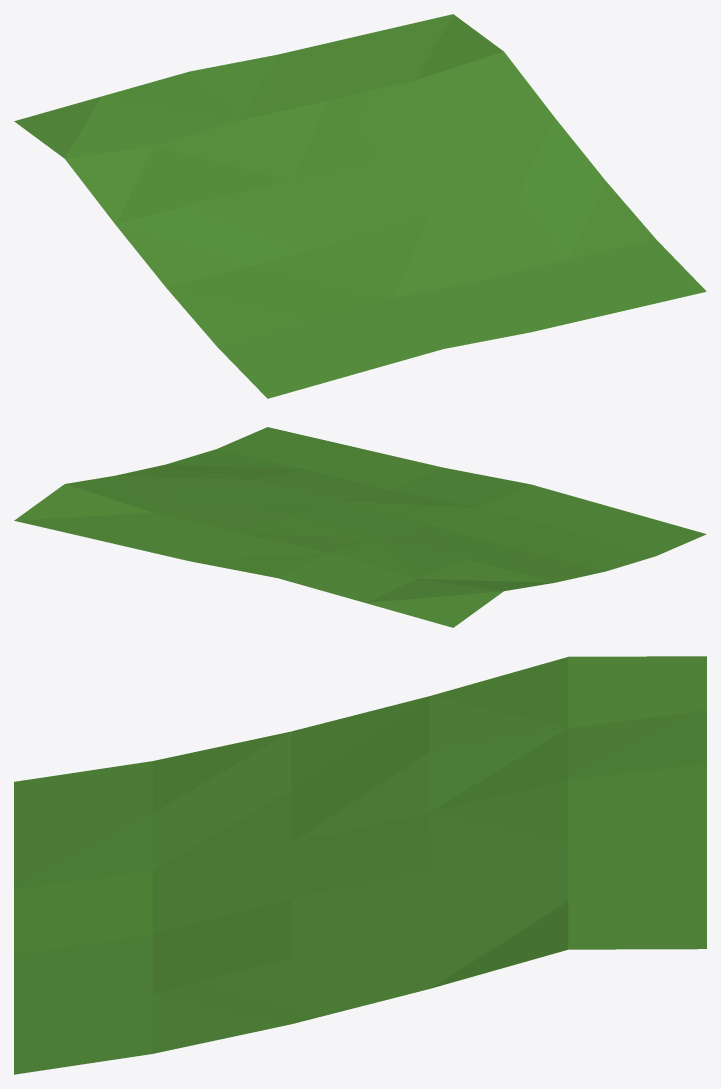
The model's file is terrain-plane-slope2.glb.
The picture shows the model from 3 angles, top to bottom: view 1: azimuth 30°, elevation 25°; view 2: azimuth 150°, elevation 25°; view 3: azimuth 270°, elevation 25°; orthographic projection. The views are drawn at different scales.
Visible parts, largest first — view 1: terrain-plane-slope2; view 2: terrain-plane-slope2; view 3: terrain-plane-slope2.
Part boxes in pixels (box(x1,y1,x2,y2)): terrain-plane-slope2: box(14, 14, 706, 398); terrain-plane-slope2: box(14, 427, 706, 627); terrain-plane-slope2: box(14, 656, 706, 1074).
Bounding box in the file's own units: 30 × 6.45 × 30.
1 material, 1 textured.
